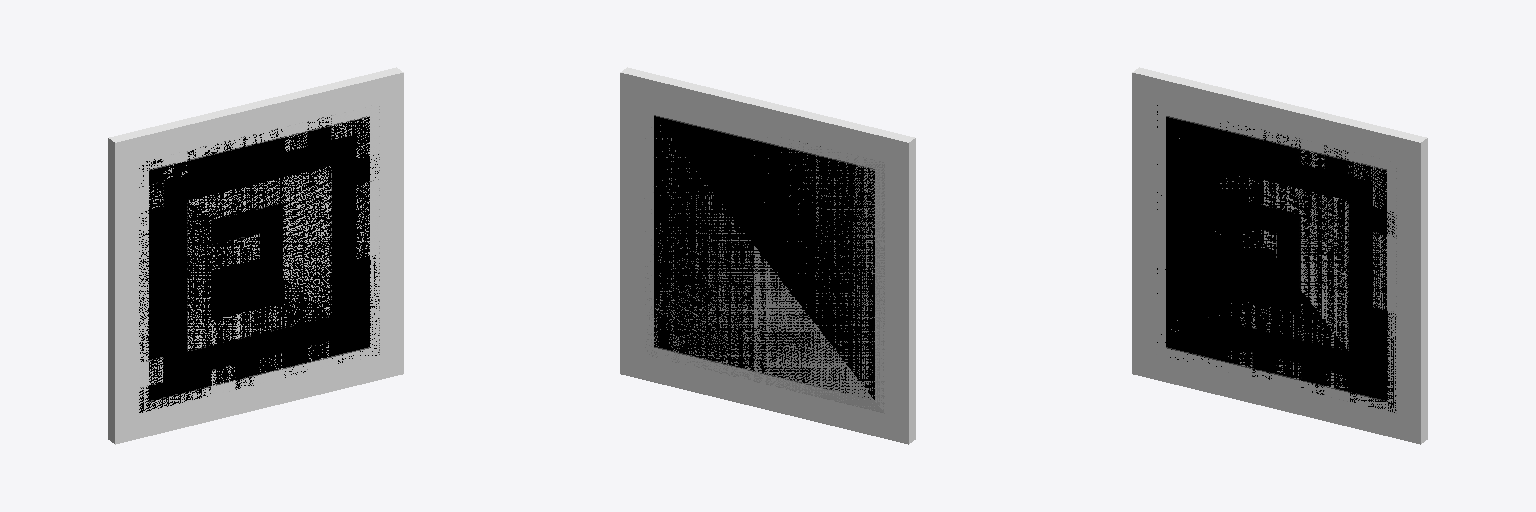
3 views of the same model, side by side, from view 1: azimuth 30°, elevation 25°; view 2: azimuth 150°, elevation 25°; view 3: azimuth 330°, elevation 25° (orthographic).
Parts seen in each view (by area): view 1: Cube; view 2: Cube; view 3: Cube.
Part boxes in pixels (x1,y1,x2,y2): Cube: (108, 67, 403, 444); Cube: (620, 67, 915, 444); Cube: (1132, 67, 1427, 444).
Bounding box in the file's own units: 0.24 × 0.24 × 0.01.
Materials: 1 (1 with a texture image).